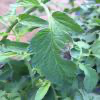Tomato leaf late blight: (22, 9, 85, 93)
